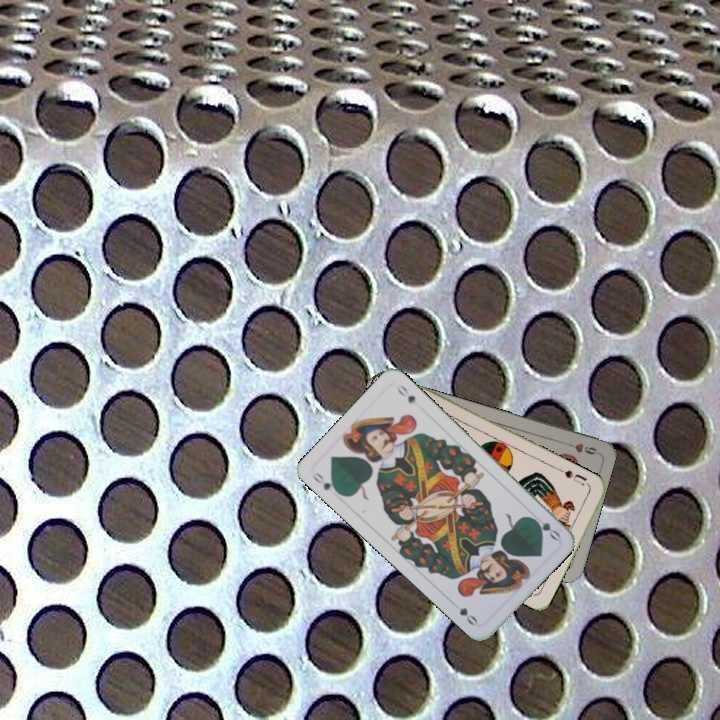GO: (526, 511, 563, 543), (308, 468, 344, 498)
H9: (561, 439, 601, 457)
SU: (555, 465, 590, 488)
